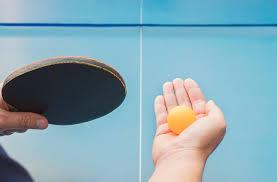ball_pingpong: (167, 106, 198, 135)
